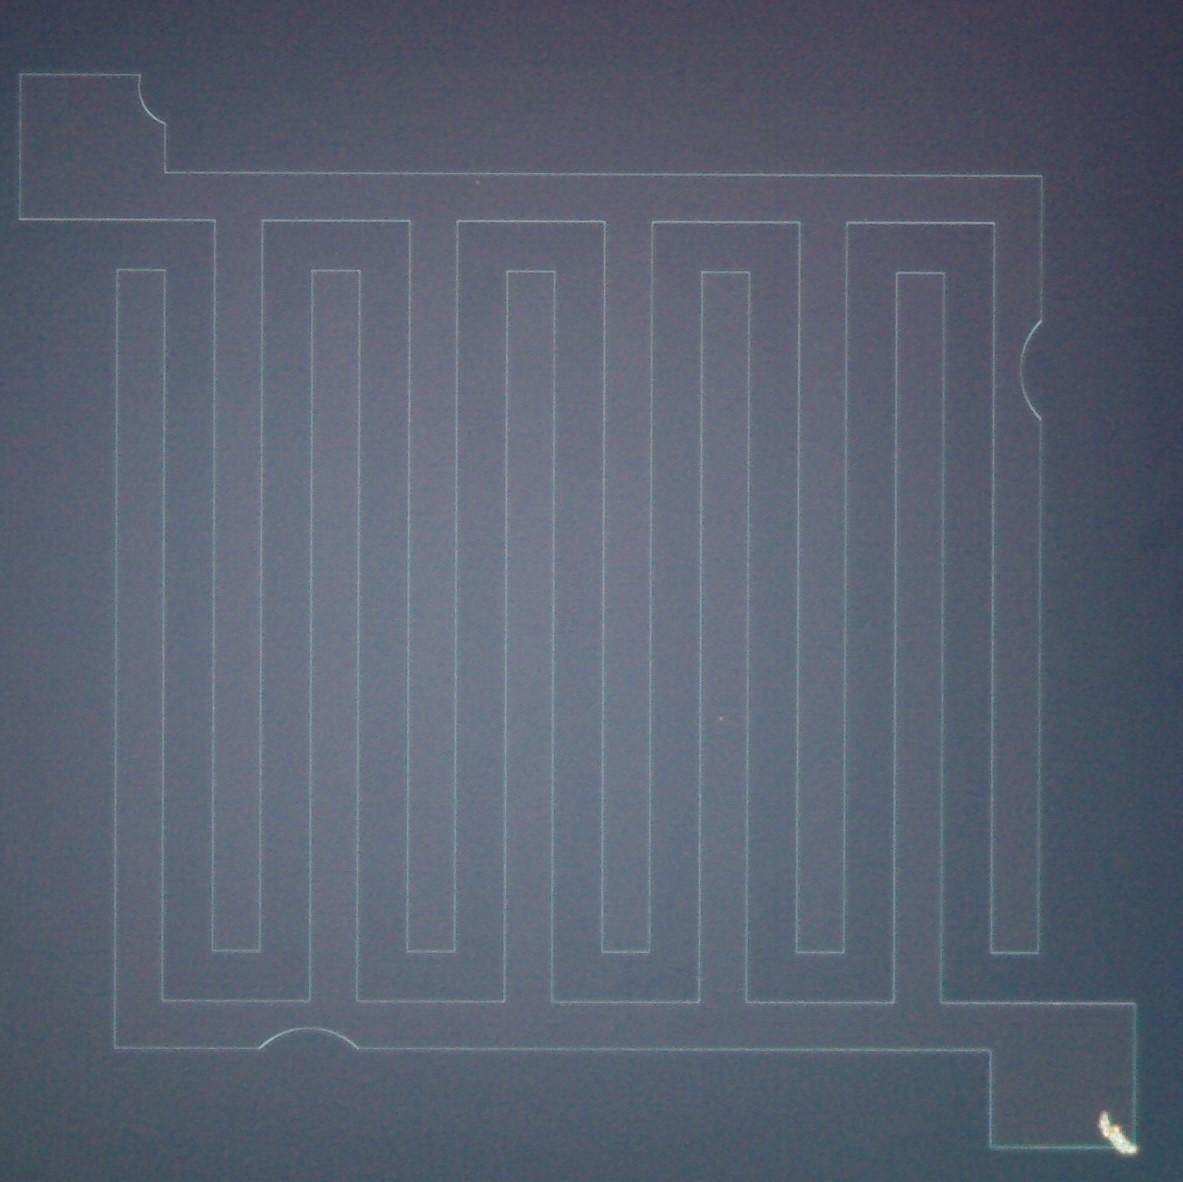cut: (1014, 305, 1082, 439), (242, 1015, 382, 1077), (122, 58, 188, 142)
foreign: (1096, 1108, 1140, 1155)
